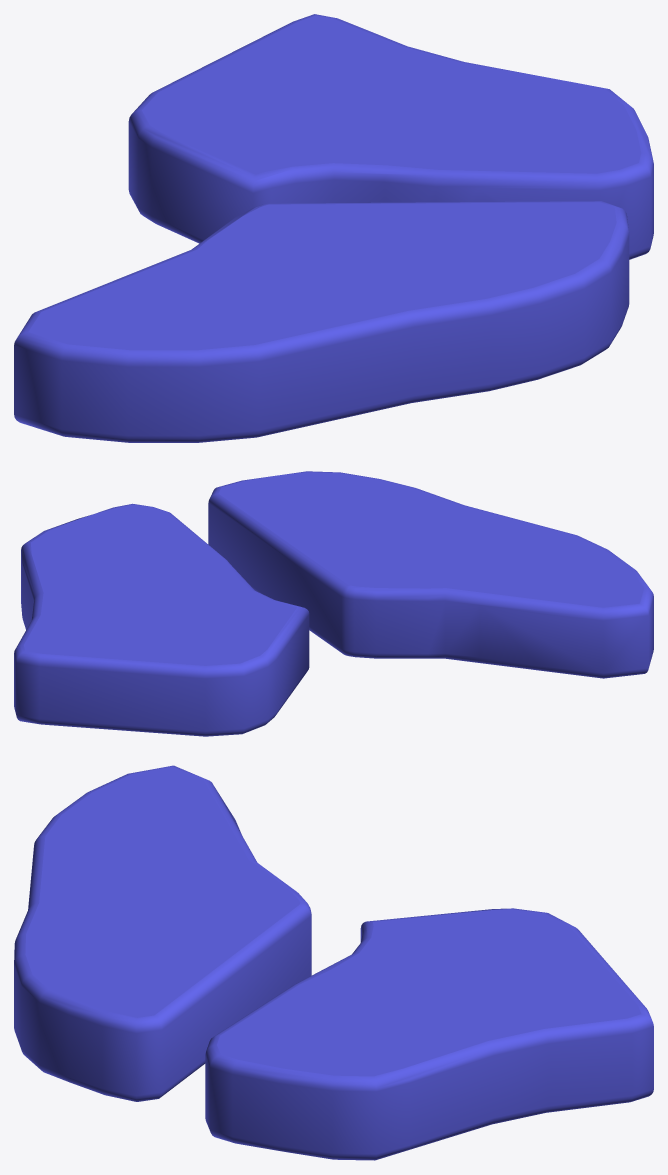
The model's file is Zoon.fbx.
3 renders of one model, top to bottom at view 1: azimuth 30°, elevation 25°; view 2: azimuth 150°, elevation 25°; view 3: azimuth 270°, elevation 25°, orthographic. The views are drawn at different scales.
Parts seen in each view (by area): view 1: Curve.014, Curve.013; view 2: Curve.014, Curve.013; view 3: Curve.013, Curve.014.
Part boxes in pixels (x1,y1,x2,y2): Curve.014: [14, 201, 629, 442]; Curve.013: [128, 14, 653, 259]; Curve.014: [208, 471, 653, 678]; Curve.013: [14, 503, 309, 736]; Curve.013: [205, 908, 653, 1160]; Curve.014: [14, 765, 311, 1101].
Size of the model in its own units: 6.5 by 0.8536 by 5.59.
